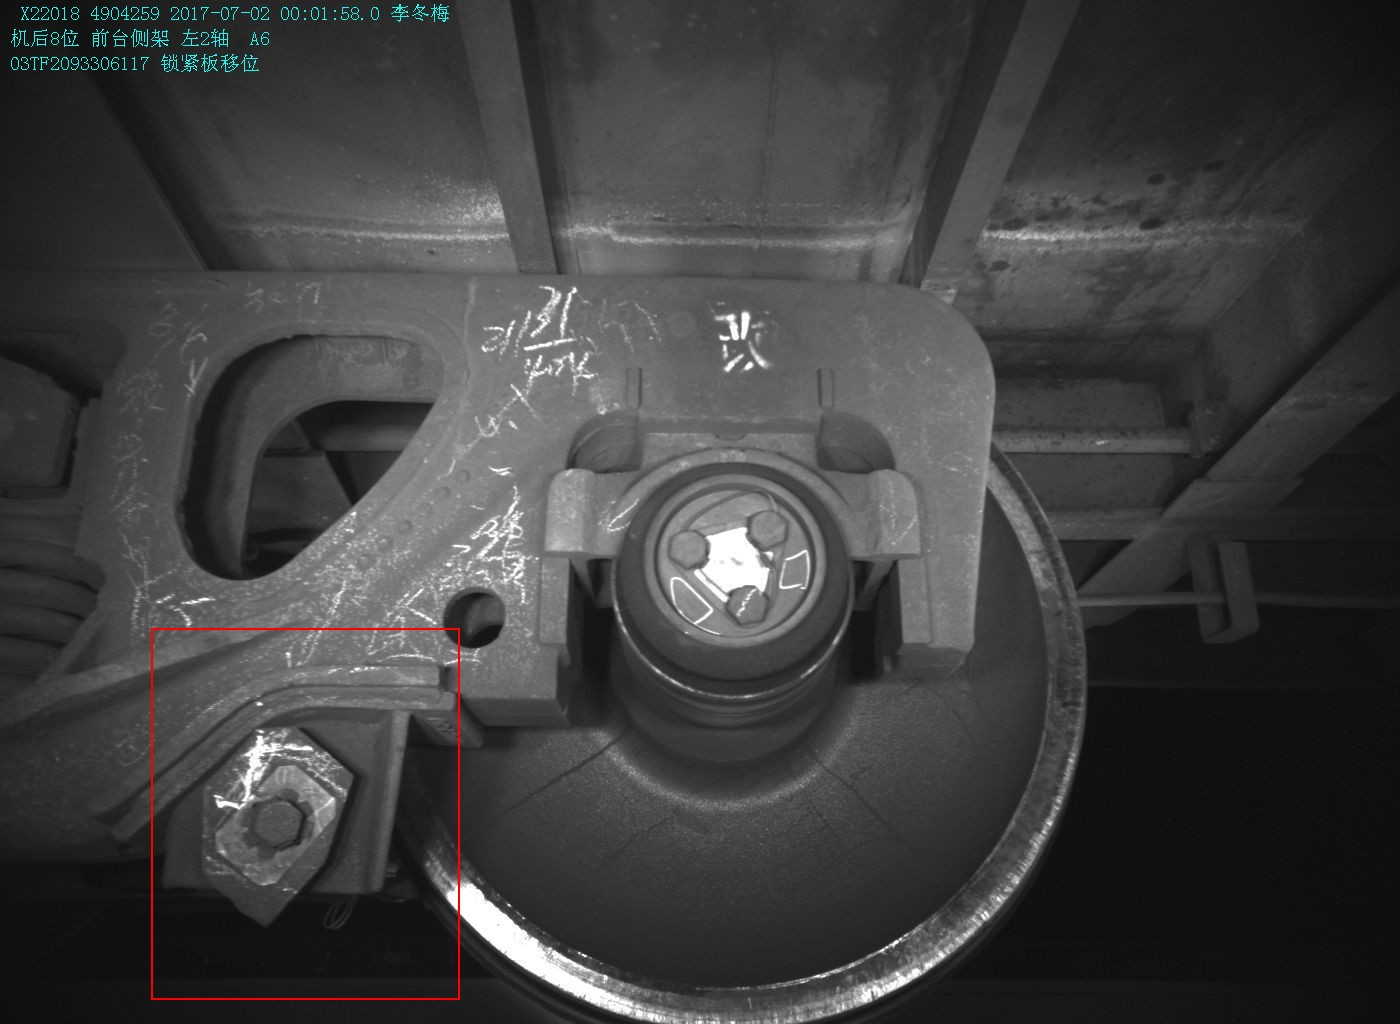locking plate: (161, 713, 410, 928)
